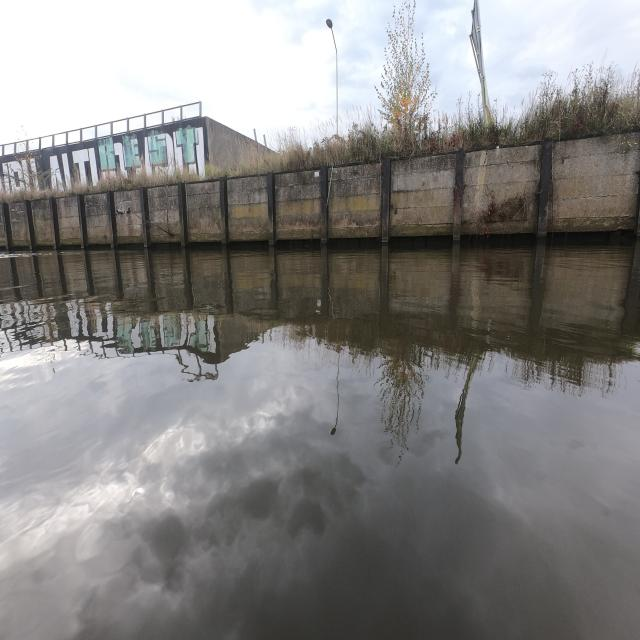sky: (481, 0, 640, 109), (416, 0, 480, 114)
wall: (8, 134, 640, 248)
water: (0, 239, 640, 640)
